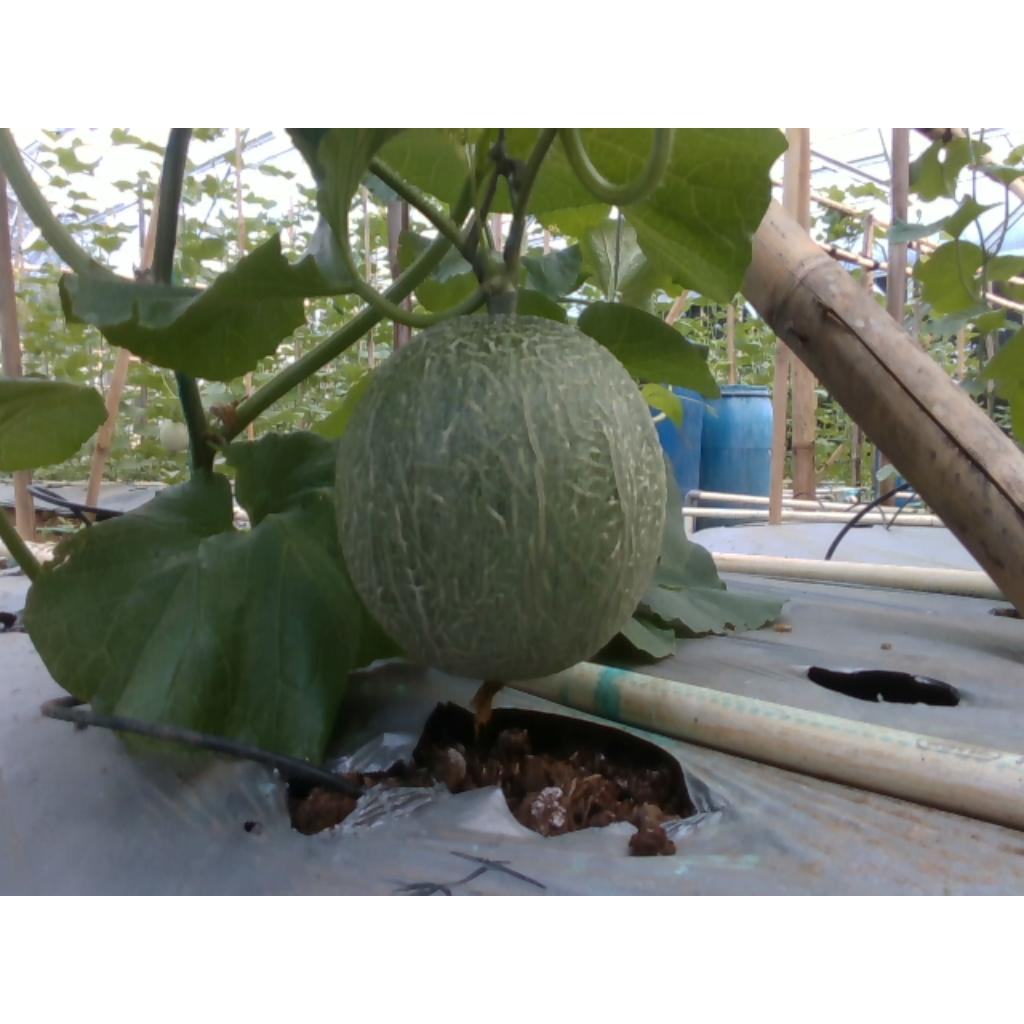melon: (336, 315, 667, 681)
